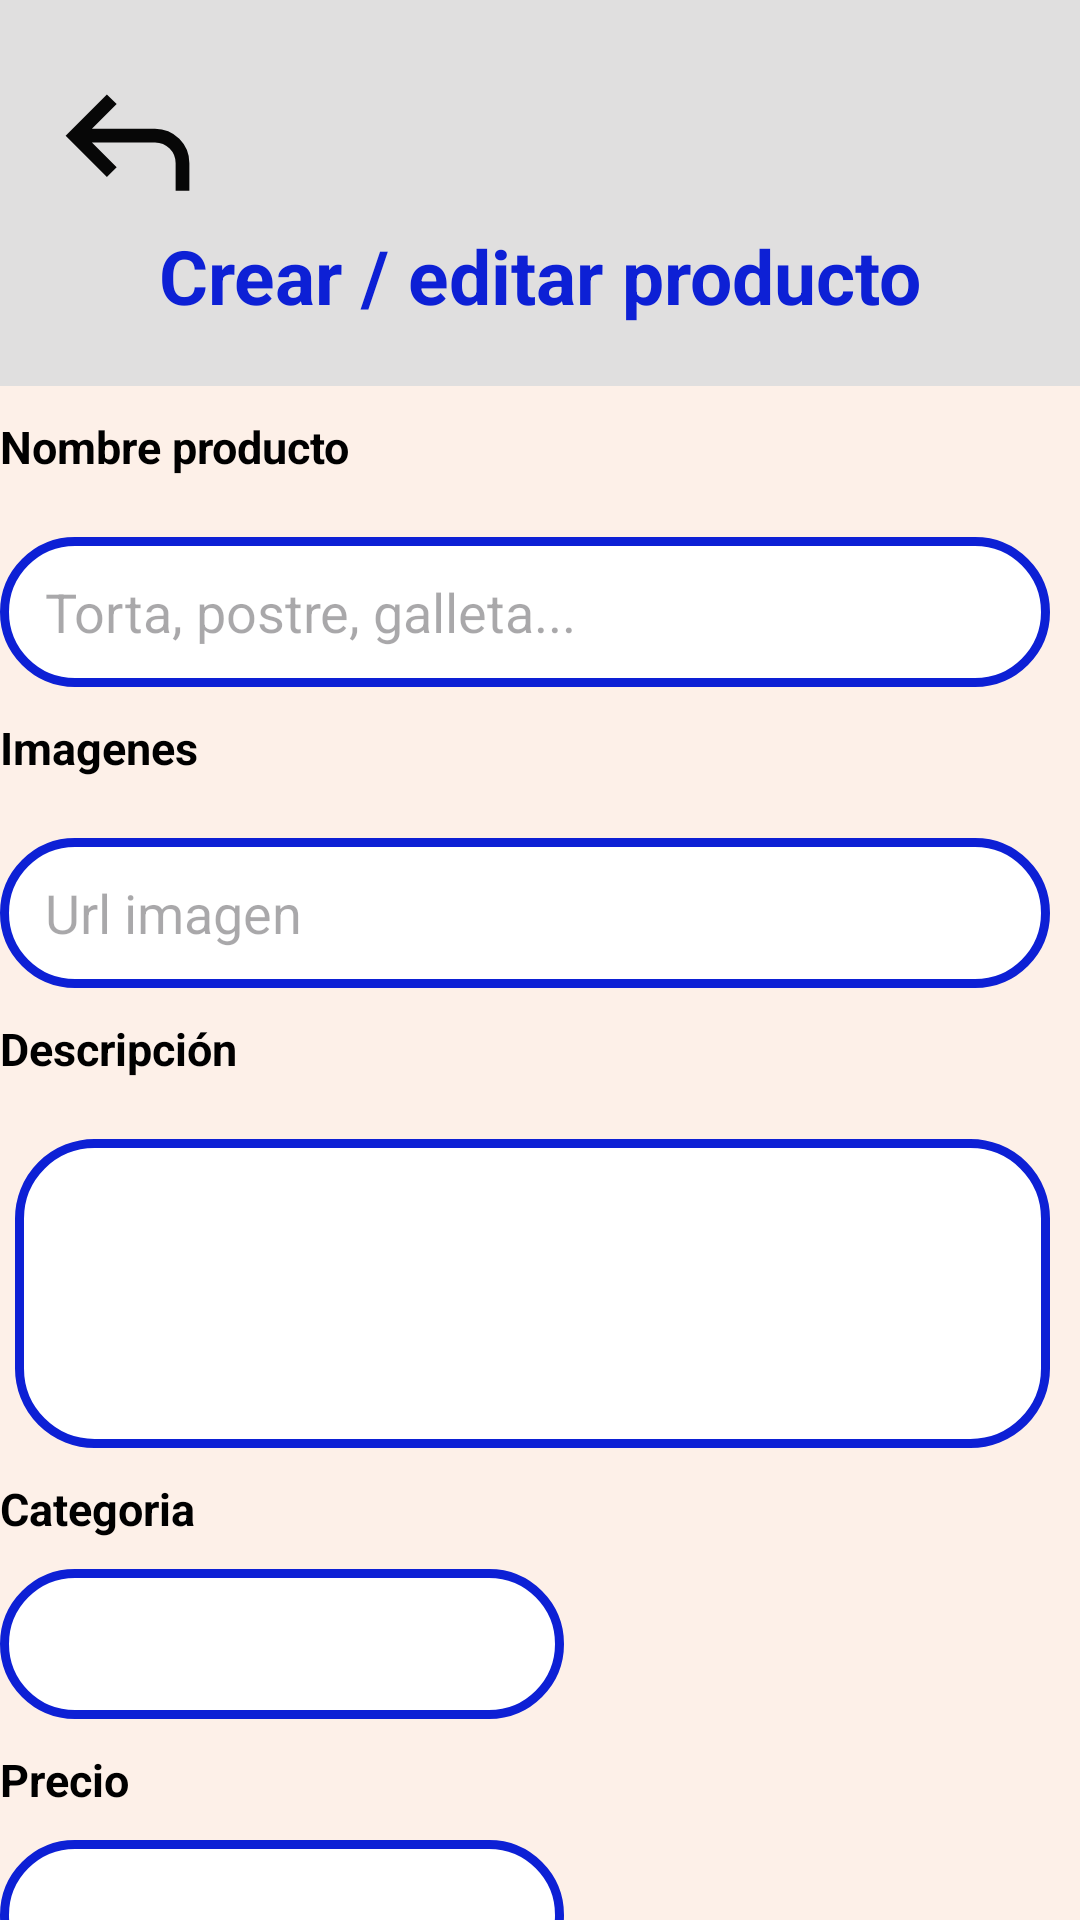

Locate icon controls on the screen. Image size 1080w x 1920h, boxes as (x1, y1, x2, y2).
regresar: (65, 94, 190, 191)
